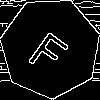F: (25, 23, 76, 77)
